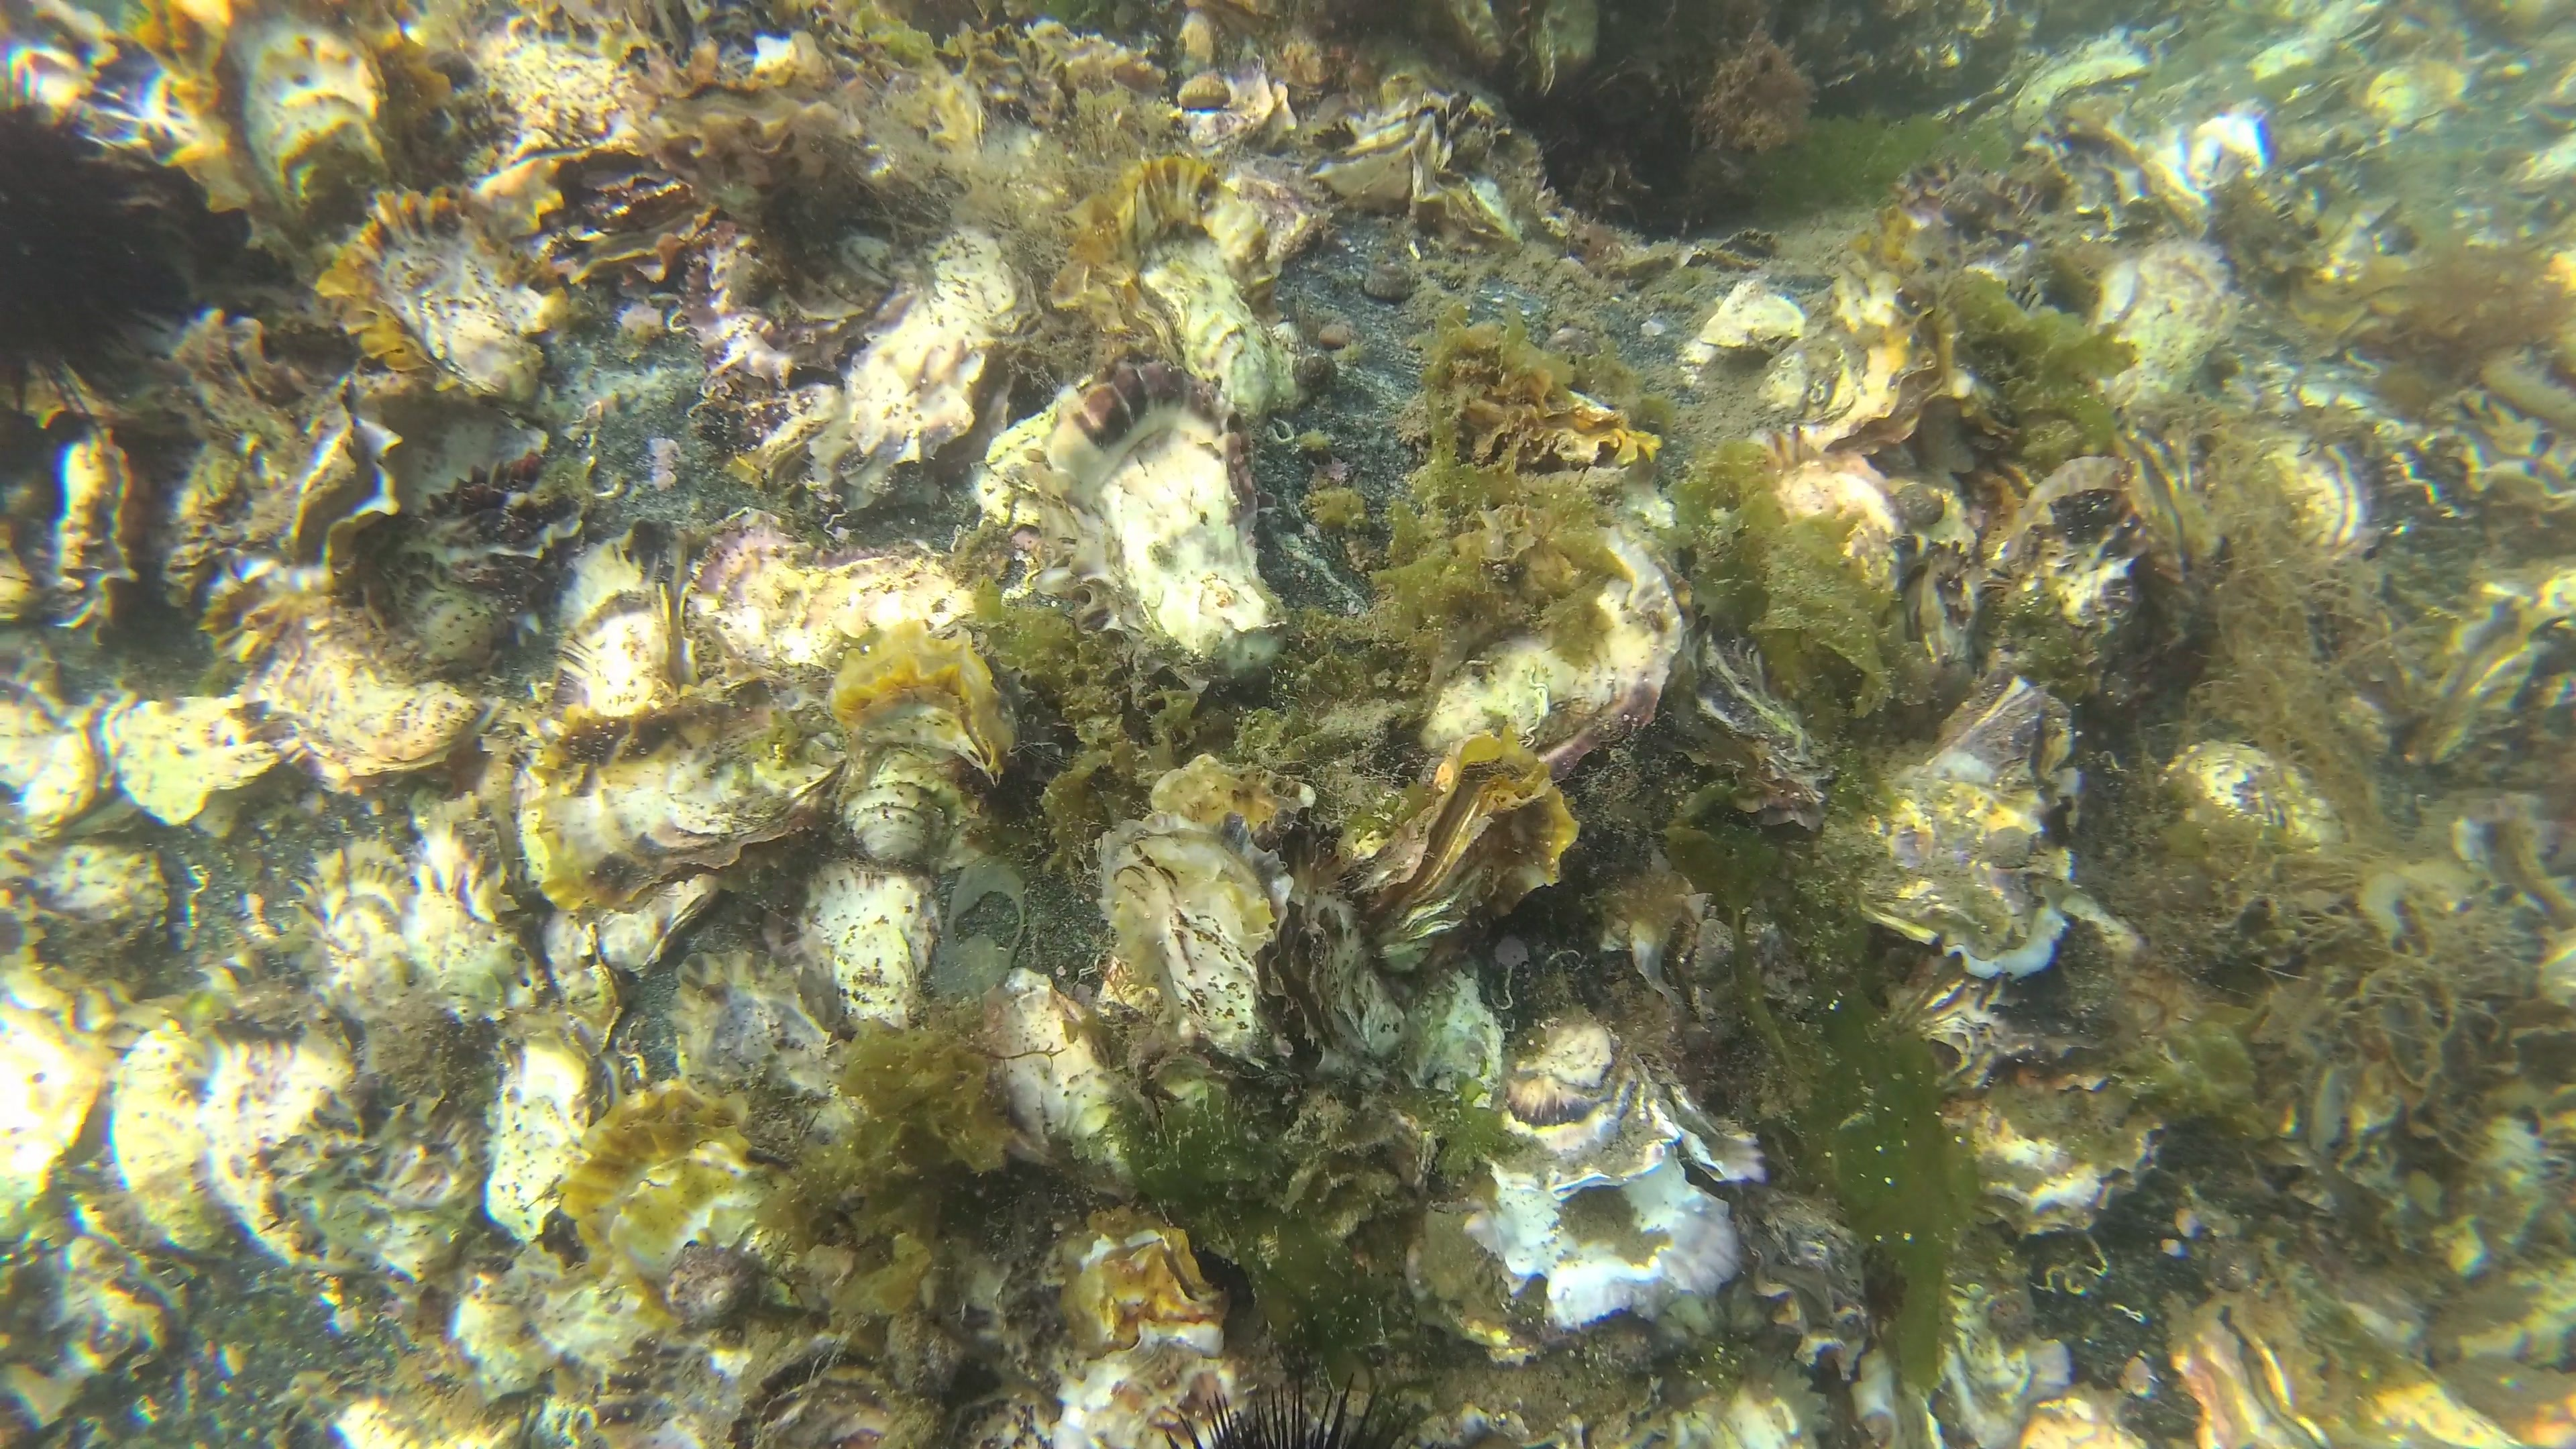echinus: (0, 81, 184, 421), (1162, 1366, 1424, 1449)
